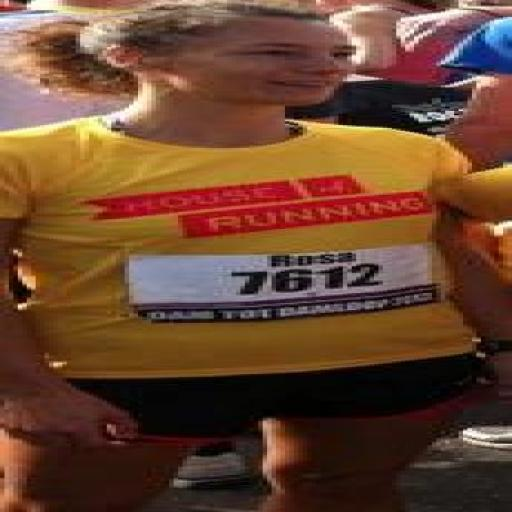person: (0, 0, 480, 511), (441, 18, 511, 169), (330, 0, 449, 85), (446, 18, 511, 169), (0, 0, 146, 46)
